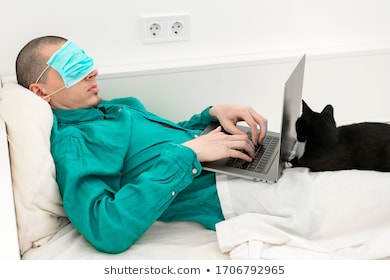mask_weared_incorrect: (42, 38, 101, 106)
